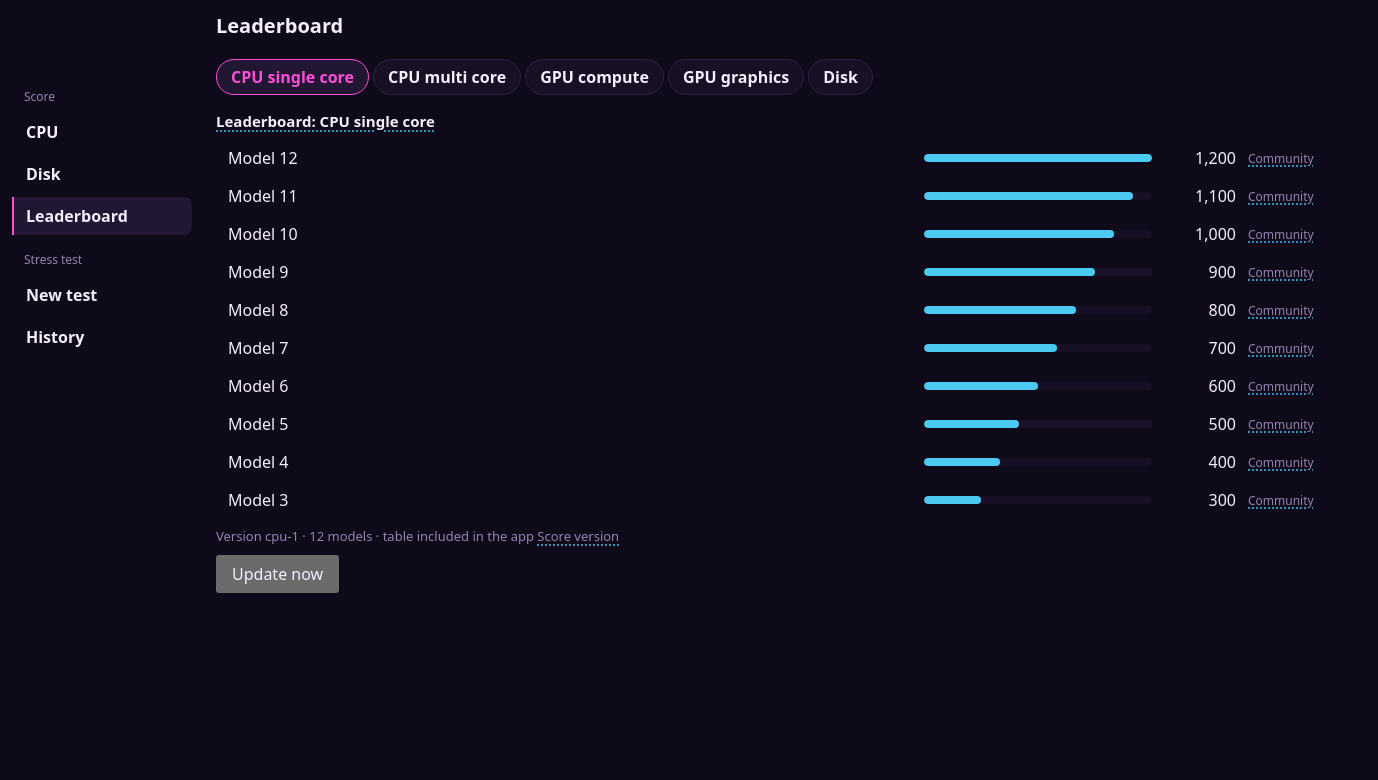
Test: tabs_switch_the_category
Expected: the element named "Leaderboard category" is shown, [216, 59, 873, 95]
Expected: the list item "Model 12 1,200 Community" is shown, [216, 141, 1377, 175]
Click the tab "GPU compute".
click(594, 77)  # box [525, 59, 664, 95]
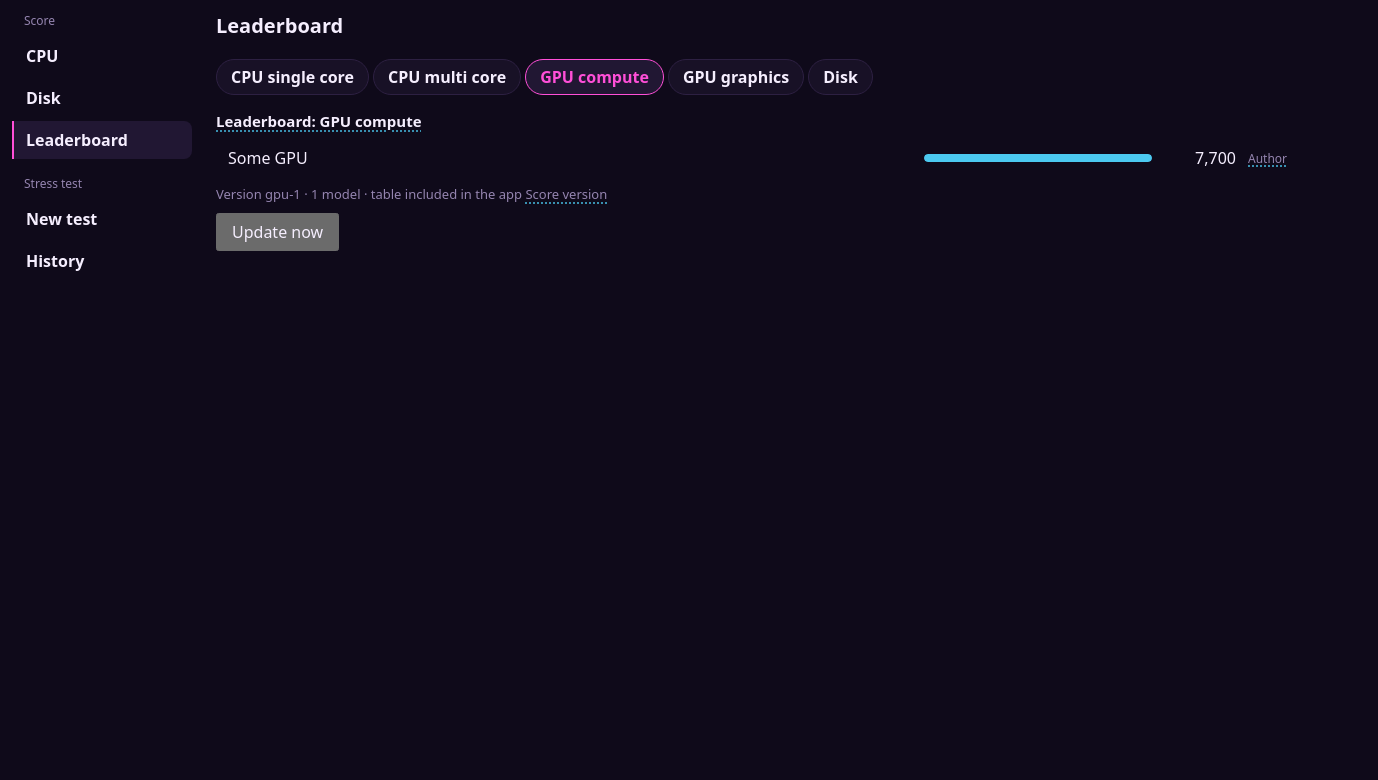
Expected: the text "Some GPU" is shown, [228, 147, 308, 169]
Expected: the text "Model 12" is gone
